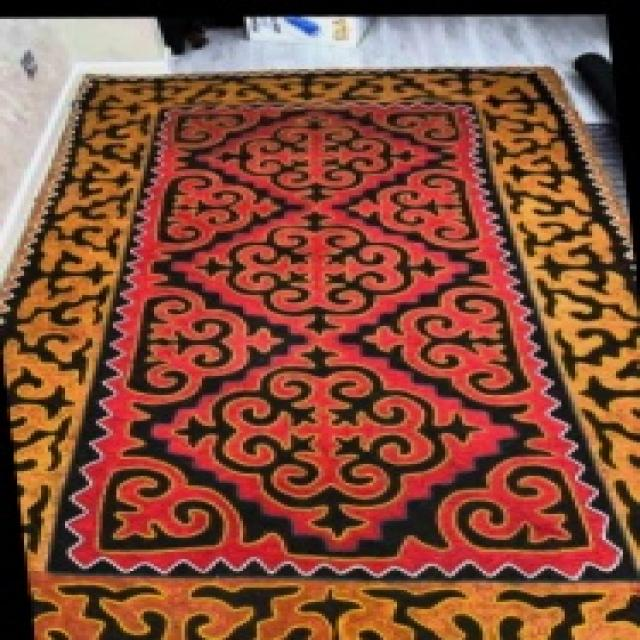Unity: (163, 340, 508, 548), (172, 210, 451, 338), (206, 112, 432, 210)
